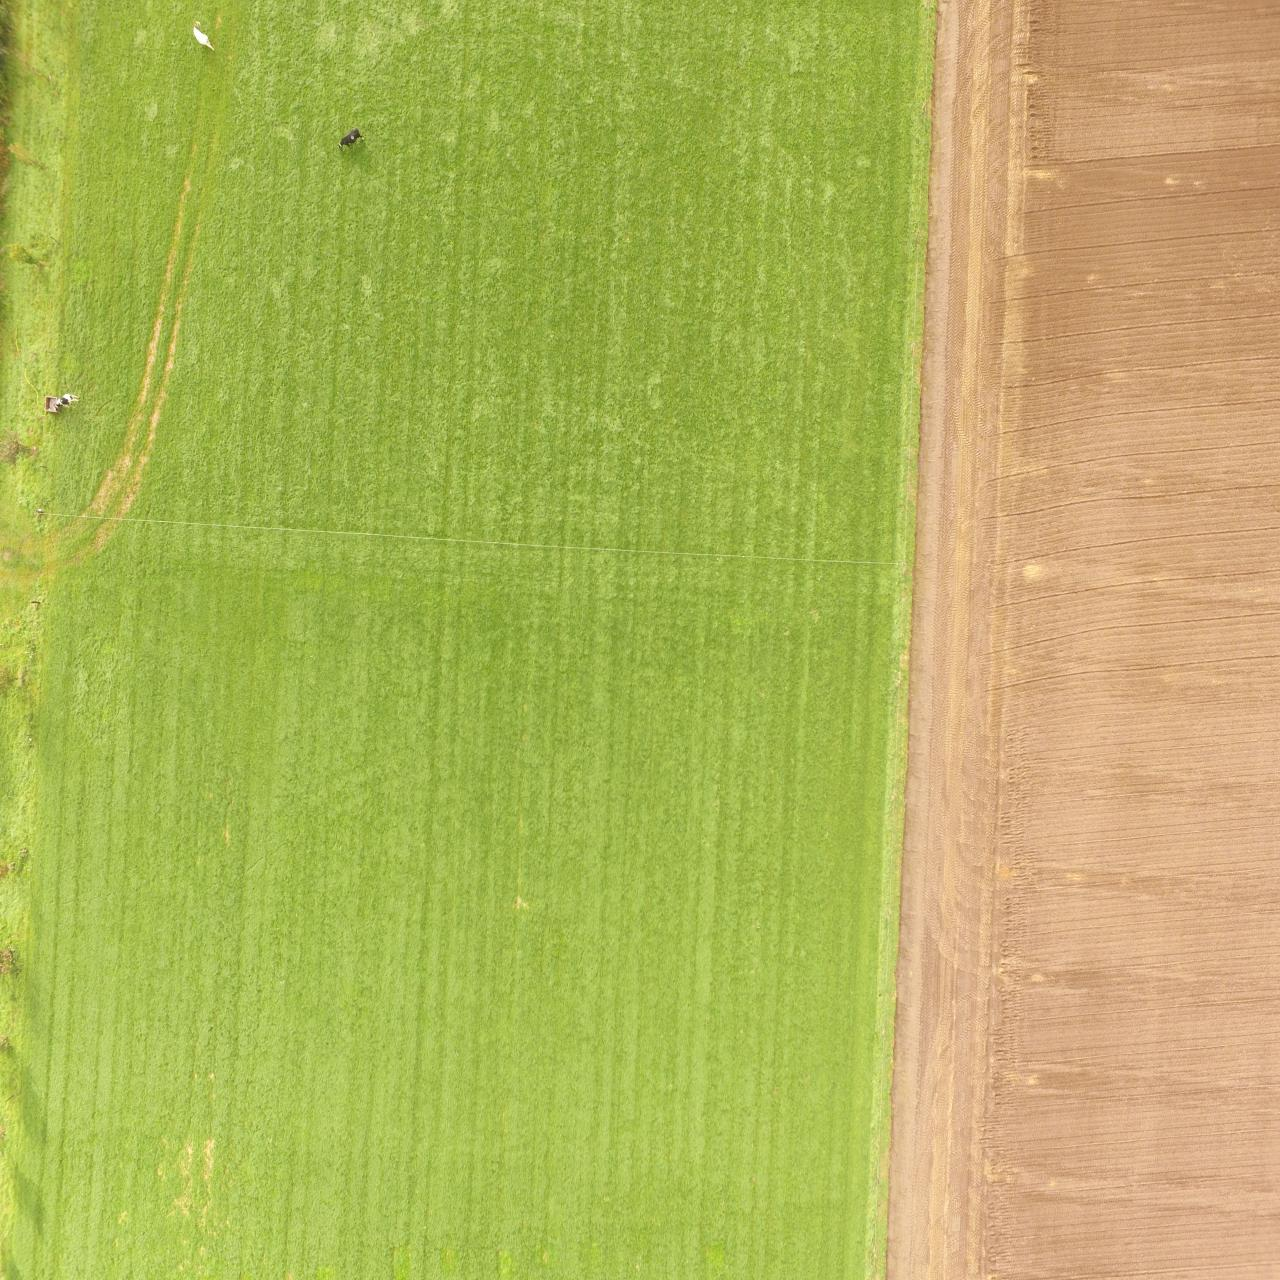cow: (41, 387, 80, 420), (188, 16, 217, 56), (335, 122, 366, 157)
